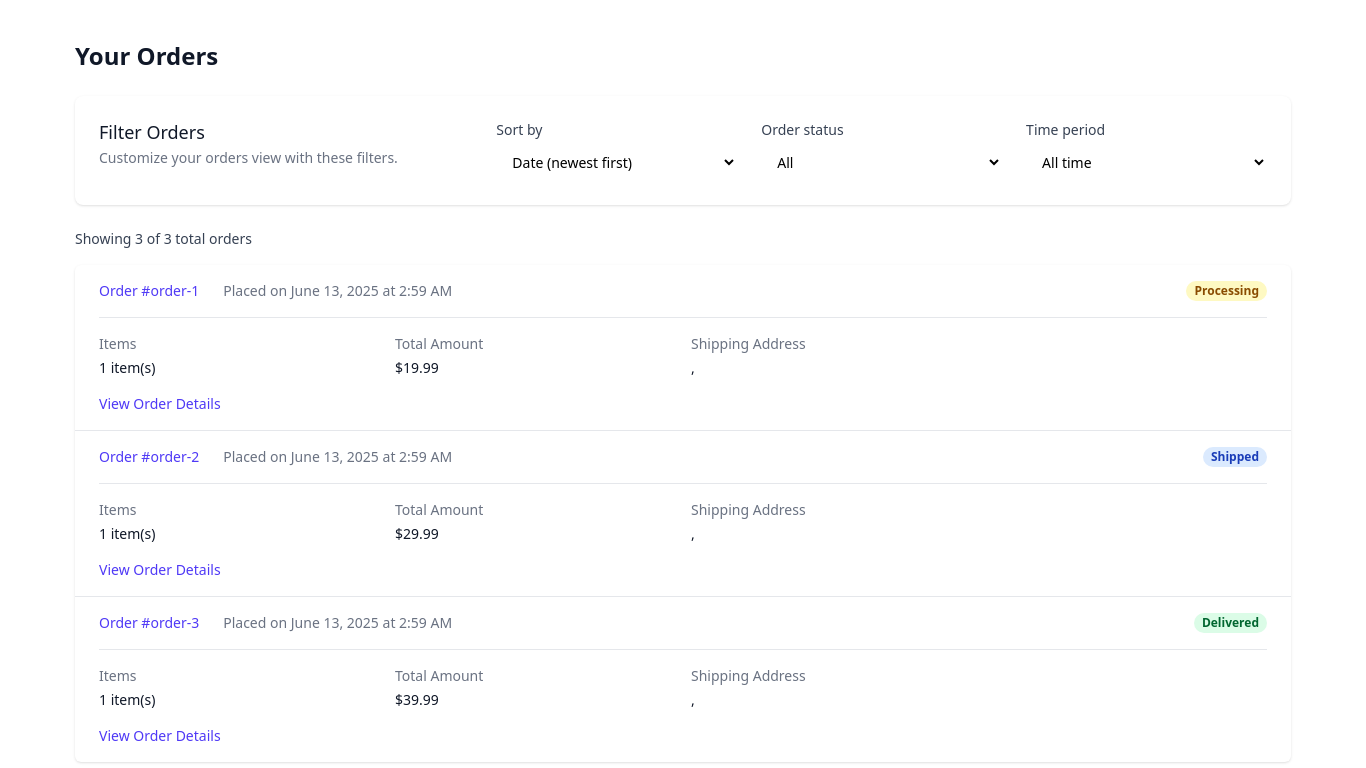
Scenario: OrdersPage › filters orders by status
Expected: the heading "Your Orders" is shown, x1=75 y1=39 x2=218 y2=72
Expected: the text "Order #order-1" is shown, x1=99 y1=281 x2=199 y2=301
Filter by "Shipped" status
Select "Shipped" in the dropdown labelled "Order status" at [882, 162], box x1=761 y1=144 x2=1002 y2=181
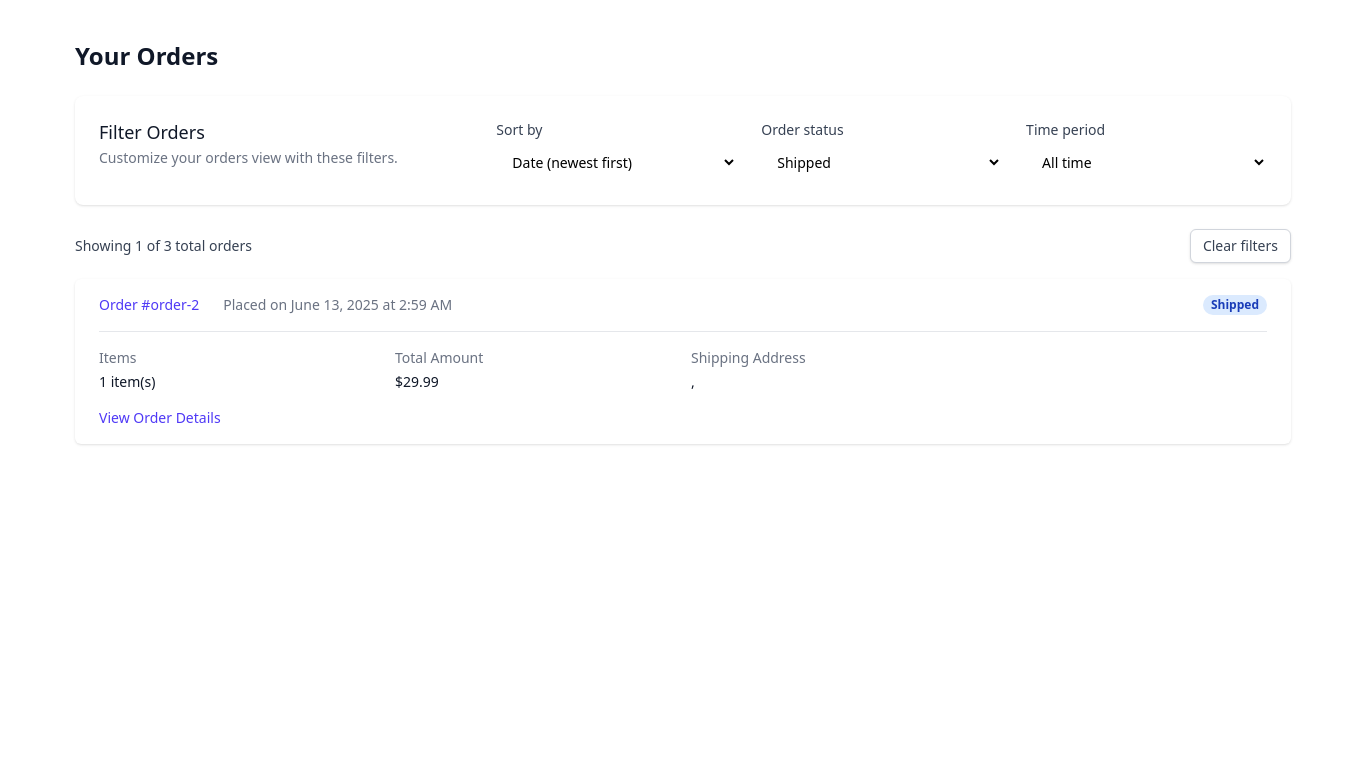
Expected: the text "Order #order-1" is gone
